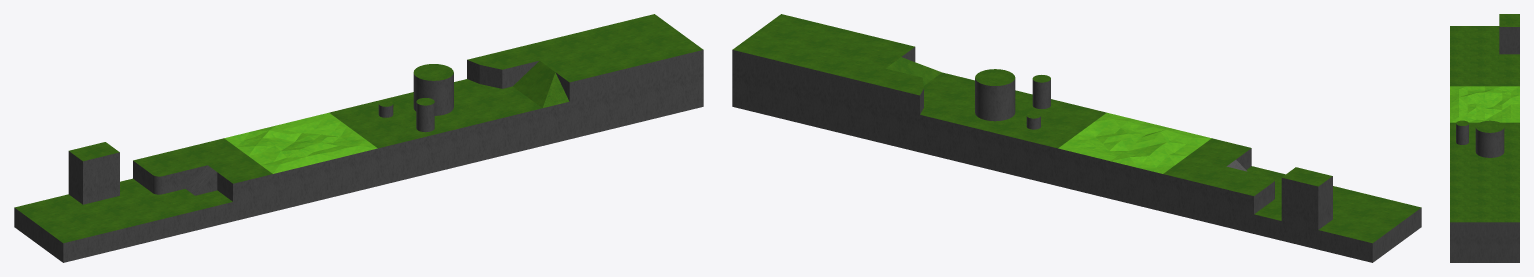
3 renders of one model, left to right at view 1: azimuth 30°, elevation 25°; view 2: azimuth 150°, elevation 25°; view 3: azimuth 270°, elevation 25°, orthographic. The views are drawn at different scales.
Parts seen in each view (by area): view 1: SketchUp.001_ID10, SketchUp.012_ID113, SketchUp.003_ID36, SketchUp.005_ID52, SketchUp.002_ID23, SketchUp.007_ID73, SketchUp.006_ID65, SketchUp.004_ID44, SketchUp.011_ID105; view 2: SketchUp.001_ID10, SketchUp.012_ID113, SketchUp.005_ID52, SketchUp.003_ID36, SketchUp.002_ID23, SketchUp.007_ID73, SketchUp.006_ID65, SketchUp.004_ID44, SketchUp.011_ID105; view 3: SketchUp.012_ID113, SketchUp.001_ID10, SketchUp.005_ID52, SketchUp.003_ID36, SketchUp.002_ID23, SketchUp.007_ID73, SketchUp.006_ID65, SketchUp.004_ID44, SketchUp.011_ID105, SketchUp.010_ID97.
Part boxes in pixels (bbox=[...]): SketchUp.001_ID10: bbox=[14, 50, 703, 262]; SketchUp.012_ID113: bbox=[329, 14, 703, 148]; SketchUp.003_ID36: bbox=[14, 178, 232, 243]; SketchUp.005_ID52: bbox=[224, 112, 377, 173]; SketchUp.002_ID23: bbox=[133, 138, 272, 183]; SketchUp.007_ID73: bbox=[413, 73, 453, 115]; SketchUp.006_ID65: bbox=[413, 64, 453, 80]; SketchUp.004_ID44: bbox=[69, 142, 119, 161]; SketchUp.011_ID105: bbox=[416, 102, 434, 132]; SketchUp.001_ID10: bbox=[732, 47, 1421, 262]; SketchUp.012_ID113: bbox=[732, 14, 1106, 148]; SketchUp.005_ID52: bbox=[1058, 112, 1211, 173]; SketchUp.003_ID36: bbox=[1246, 166, 1421, 243]; SketchUp.002_ID23: bbox=[1163, 138, 1274, 195]; SketchUp.007_ID73: bbox=[975, 78, 1015, 121]; SketchUp.006_ID65: bbox=[975, 69, 1015, 85]; SketchUp.004_ID44: bbox=[1282, 167, 1332, 186]; SketchUp.011_ID105: bbox=[1032, 79, 1050, 109]; SketchUp.012_ID113: bbox=[1450, 122, 1519, 222]; SketchUp.001_ID10: bbox=[1450, 27, 1519, 262]; SketchUp.005_ID52: bbox=[1450, 86, 1519, 122]; SketchUp.003_ID36: bbox=[1450, 26, 1499, 72]; SketchUp.002_ID23: bbox=[1450, 54, 1519, 86]; SketchUp.007_ID73: bbox=[1475, 127, 1504, 157]; SketchUp.006_ID65: bbox=[1475, 120, 1504, 132]; SketchUp.004_ID44: bbox=[1499, 14, 1519, 26]; SketchUp.011_ID105: bbox=[1456, 124, 1468, 144]; SketchUp.010_ID97: bbox=[1456, 120, 1468, 125].
Bounding box in the file's own units: 378 × 41.1 × 50.
